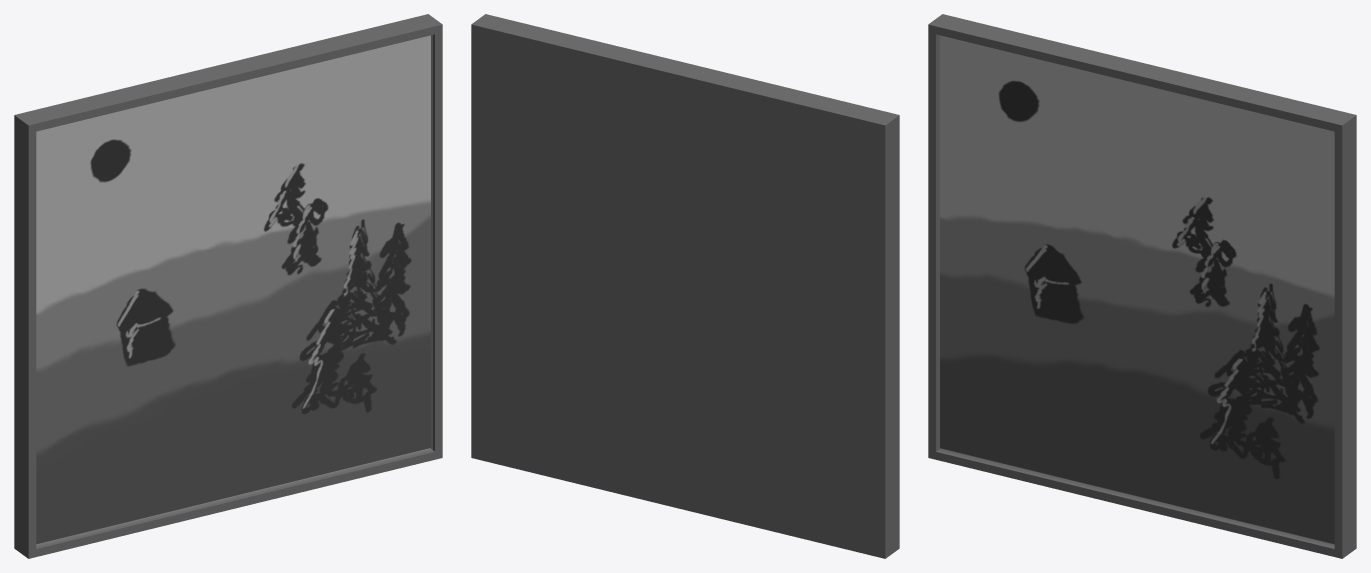
Rendered from Assets.fbx_Gem_lde_Wald.fbx.
3 views of the same model, side by side, from view 1: azimuth 30°, elevation 25°; view 2: azimuth 150°, elevation 25°; view 3: azimuth 330°, elevation 25° (orthographic).
Parts seen in each view (by area): view 1: Bild Wald, Motiv; view 2: Bild Wald; view 3: Bild Wald, Motiv.
Part boxes in pixels (bbox=[...]): Bild Wald: bbox=[14, 14, 442, 558]; Motiv: bbox=[36, 35, 430, 544]; Bild Wald: bbox=[471, 14, 899, 558]; Bild Wald: bbox=[928, 14, 1356, 558]; Motiv: bbox=[940, 35, 1334, 544].
Bounding box in the file's own units: 50 × 50 × 3.
